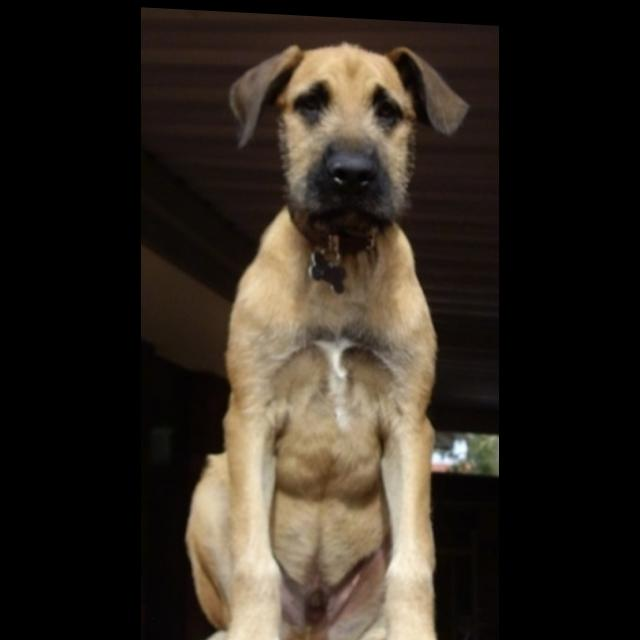other_dog_breed: (185, 31, 471, 640)
